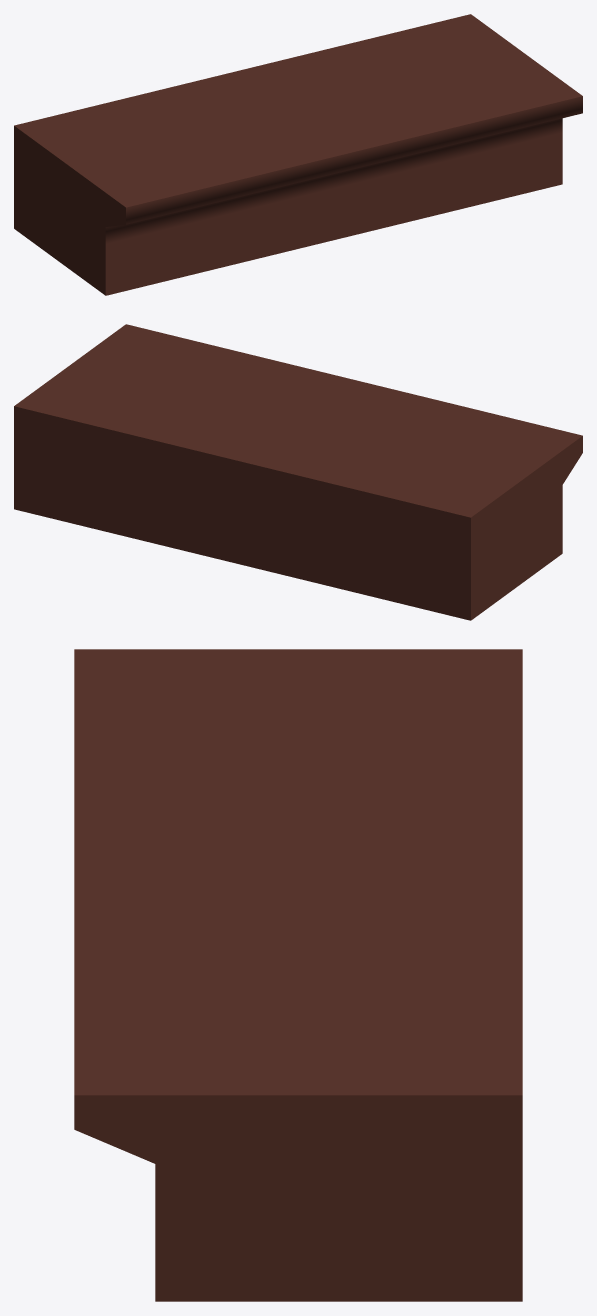
File: Stand.fbx
3 renders of one model, top to bottom at view 1: azimuth 30°, elevation 25°; view 2: azimuth 150°, elevation 25°; view 3: azimuth 270°, elevation 25°, orthographic. The views are drawn at different scales.
Visible parts, largest first — view 1: pCube63; view 2: pCube63; view 3: pCube63.
Part boxes in pixels (box(x1,y1,x2,y2)): pCube63: box(14, 14, 582, 295); pCube63: box(14, 324, 582, 620); pCube63: box(74, 649, 522, 1301).
Bounding box in the file's own units: 17.24 × 3.72 × 7.32.
